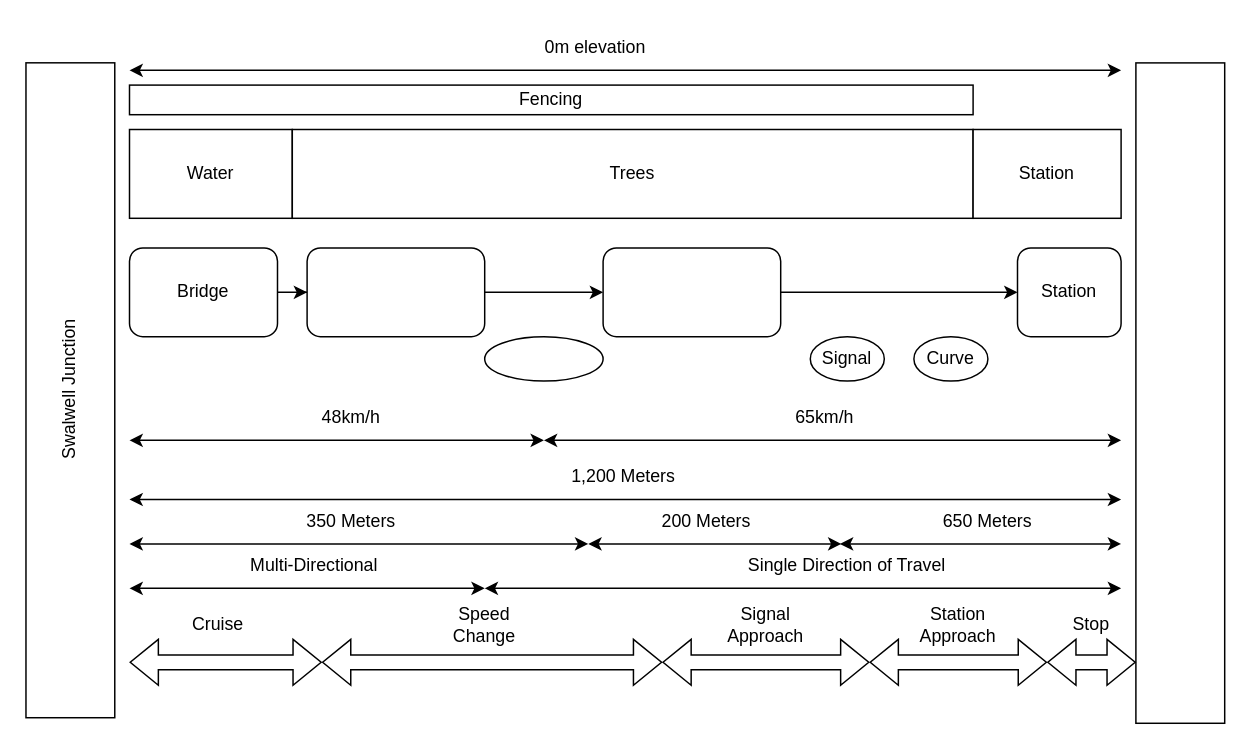
The diagram is 1251 pixels wide and 749 high, and some of its shapes have lost their labels. The centre of each missing label's shape, as x and y in pixels:
Junction: (395,291)
Metrocentre: (1179,392)
Overpass: (691,291)
Speed sign: (543,358)
